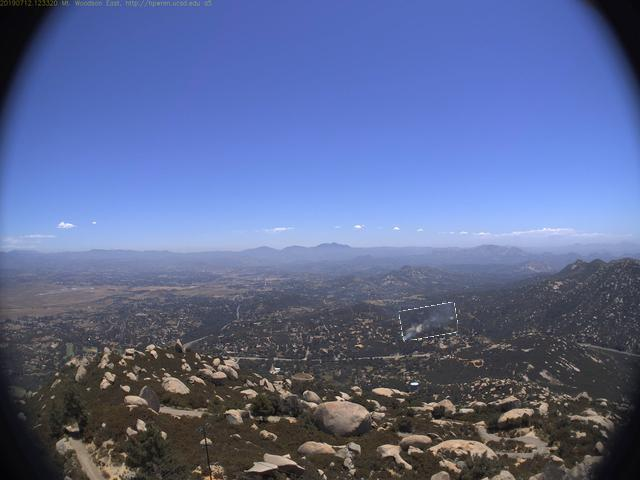smoke: (401, 306, 459, 340)
